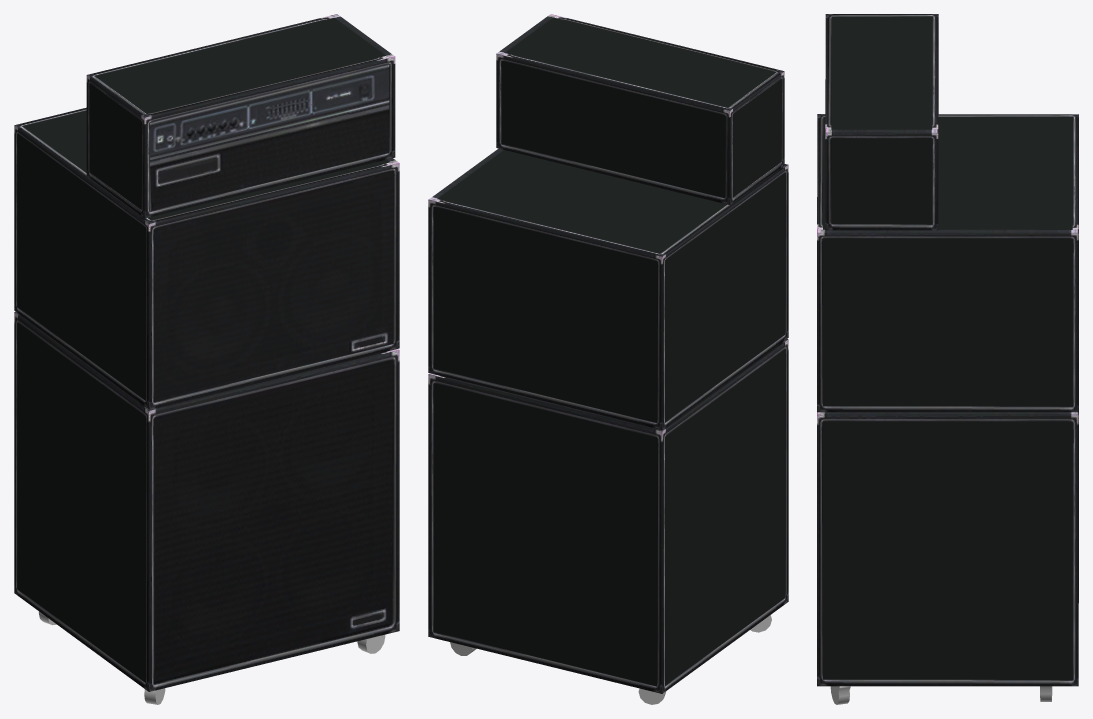
Rendered from Amp_Stack_A.fbx.
3 renders of one model, left to right at view 1: azimuth 30°, elevation 25°; view 2: azimuth 150°, elevation 25°; view 3: azimuth 270°, elevation 25°, orthographic. The views are drawn at different scales.
Parts seen in each view (by area): view 1: Amps, Caster_Wheels; view 2: Amps, Caster_Wheels; view 3: Amps, Caster_Wheels.
Boxes of the visible parts, x1,y1,x2,y2 form: Amps: [14, 14, 399, 691]; Caster_Wheels: [38, 611, 385, 704]; Amps: [428, 14, 788, 693]; Caster_Wheels: [450, 615, 771, 704]; Amps: [817, 14, 1078, 686]; Caster_Wheels: [830, 686, 1052, 704].
Bounding box in the file's own units: 0.906 × 2.06 × 0.8454.
